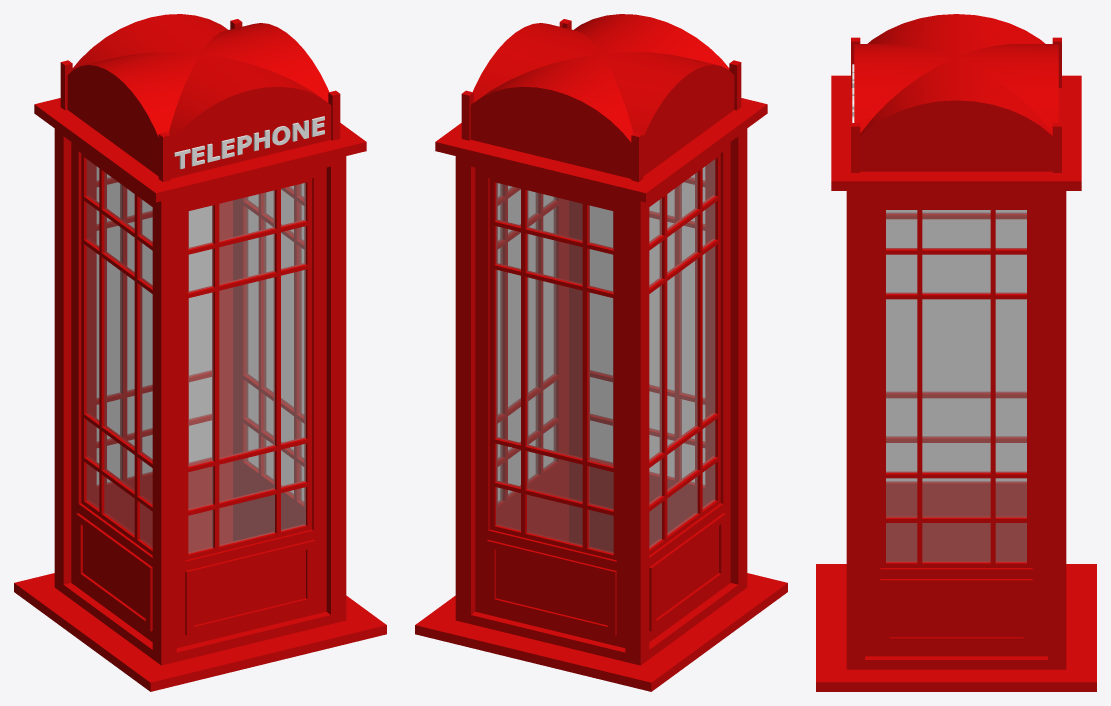
3 renders of one model, left to right at view 1: azimuth 30°, elevation 25°; view 2: azimuth 150°, elevation 25°; view 3: azimuth 270°, elevation 25°, orthographic. The views are drawn at different scales.
Parts seen in each view (by area): view 1: 9763, 10773, 10774, 10771, 10772, TELEPHONE; view 2: 9763, 10771, 10774, 10773, 10772; view 3: 10772, 9763, 10774.
Boxes of the visible parts, x1,y1,x2,y2 form: 9763: (14,14,386,691); 10773: (176,167,326,647); 10774: (71,142,152,641); 10771: (89,161,232,551); 10772: (233,183,304,541); TELEPHONE: (174,116,324,169); 9763: (415,14,787,691); 10771: (475,167,625,647); 10774: (649,142,730,641); 10773: (569,161,712,551); 10772: (497,183,568,541); 10772: (865,198,1047,656); 9763: (816,14,1096,691); 10774: (886,210,1026,561).
Bounding box in the file's own units: 0.0944 × 0.2135 × 0.0944.
